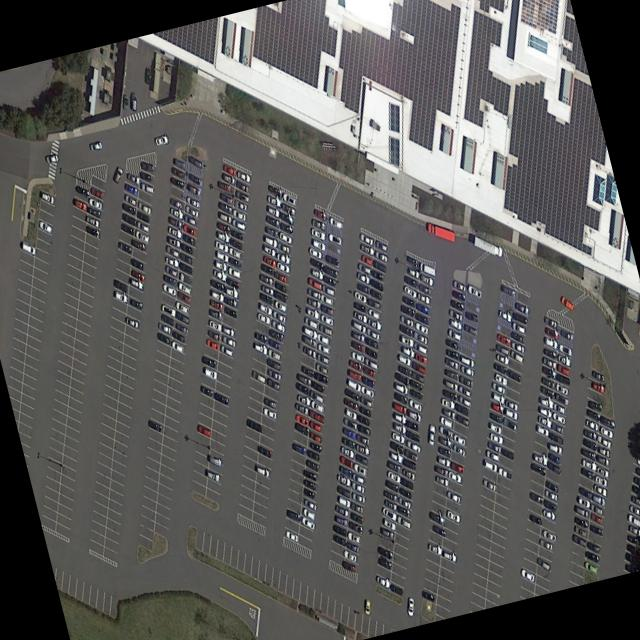large-vehicle: (474, 235, 502, 256), (427, 221, 454, 241)
small-vehicle: (406, 438, 421, 453), (382, 505, 397, 520), (377, 544, 392, 559), (246, 417, 261, 432), (420, 260, 435, 275), (308, 408, 324, 422), (560, 294, 574, 310), (389, 439, 403, 454), (302, 332, 316, 347), (407, 407, 421, 422), (392, 400, 407, 414), (394, 370, 408, 385), (413, 329, 427, 344), (396, 513, 410, 528), (596, 433, 611, 447), (599, 414, 614, 428), (530, 461, 545, 475), (546, 459, 560, 474), (548, 430, 563, 444), (186, 181, 200, 196), (217, 200, 232, 214), (167, 214, 182, 228), (161, 302, 176, 316), (351, 318, 366, 332), (307, 276, 322, 290), (294, 420, 308, 434), (295, 412, 309, 426), (491, 380, 505, 394), (405, 428, 419, 442), (408, 397, 422, 411), (413, 340, 427, 354), (429, 510, 443, 524), (251, 369, 265, 383), (483, 457, 497, 471), (343, 548, 357, 562), (377, 555, 391, 569), (515, 300, 529, 314), (419, 271, 433, 285), (510, 329, 524, 343), (188, 154, 202, 168), (267, 182, 281, 196), (282, 191, 296, 205), (131, 237, 145, 251), (135, 228, 149, 242), (122, 201, 136, 215), (372, 258, 386, 272), (269, 327, 283, 341), (201, 354, 215, 368), (175, 310, 189, 324), (177, 289, 191, 303), (271, 318, 285, 332), (311, 226, 325, 240), (279, 210, 293, 224), (296, 372, 311, 385), (442, 377, 457, 390), (459, 353, 474, 366), (521, 566, 534, 581), (537, 555, 550, 570), (580, 446, 595, 459), (582, 437, 597, 450), (532, 452, 547, 465), (500, 283, 515, 296), (343, 416, 357, 429), (344, 396, 357, 410), (344, 387, 358, 400), (387, 458, 400, 472), (402, 457, 416, 470), (341, 444, 354, 458), (353, 461, 366, 475), (340, 453, 353, 467), (309, 389, 323, 402), (301, 363, 314, 377), (404, 447, 417, 461), (506, 368, 520, 381), (455, 401, 468, 415), (444, 356, 458, 369), (463, 322, 477, 335), (503, 416, 516, 430), (404, 417, 418, 430), (394, 389, 407, 403), (394, 380, 407, 394), (411, 360, 425, 373), (415, 320, 428, 334), (267, 356, 280, 370), (266, 376, 279, 390), (447, 508, 460, 522), (383, 488, 397, 501), (384, 478, 398, 491), (432, 523, 446, 536), (446, 489, 460, 502), (498, 465, 511, 479), (286, 508, 300, 521), (301, 515, 314, 529), (348, 519, 362, 532), (539, 536, 552, 550), (214, 391, 228, 404), (255, 463, 269, 476), (257, 443, 271, 456), (543, 497, 556, 511), (572, 533, 586, 546), (590, 511, 603, 525), (590, 501, 603, 515), (579, 485, 592, 499), (582, 457, 596, 470), (542, 364, 555, 378), (600, 424, 613, 438), (22, 240, 35, 254), (538, 413, 551, 427), (359, 231, 373, 244), (403, 284, 417, 297), (467, 284, 481, 297), (510, 339, 524, 352), (512, 310, 526, 323), (219, 191, 233, 204), (235, 189, 249, 202), (85, 224, 99, 237), (137, 200, 151, 213), (209, 297, 223, 310), (210, 278, 224, 291), (510, 348, 523, 362), (113, 277, 126, 291), (131, 267, 144, 281), (171, 329, 185, 342), (175, 299, 188, 313), (162, 282, 176, 295), (162, 272, 176, 285), (165, 254, 179, 267), (165, 243, 178, 257), (178, 280, 191, 294), (258, 300, 271, 314), (323, 264, 337, 277), (353, 309, 367, 322), (367, 316, 381, 329), (369, 277, 383, 290), (272, 308, 285, 322), (259, 290, 272, 304), (273, 288, 287, 301), (262, 242, 275, 256), (265, 213, 279, 226), (142, 65, 151, 85), (628, 512, 640, 527), (538, 395, 553, 407), (113, 164, 122, 183), (356, 442, 369, 455), (343, 425, 356, 438), (359, 394, 372, 407), (361, 384, 374, 397), (348, 368, 361, 381), (349, 358, 362, 371), (364, 356, 377, 369), (351, 339, 364, 352), (389, 449, 402, 462), (292, 441, 305, 454), (303, 467, 316, 480), (305, 458, 318, 471), (295, 401, 308, 414), (311, 399, 324, 412), (311, 379, 324, 392), (314, 370, 327, 383), (337, 473, 350, 486), (458, 383, 471, 396), (459, 374, 472, 387), (460, 363, 473, 376), (393, 420, 406, 433), (449, 307, 462, 320), (490, 431, 503, 444), (504, 406, 517, 419), (392, 410, 405, 423), (409, 377, 422, 390), (411, 369, 424, 382), (439, 424, 452, 437), (396, 503, 409, 516), (435, 463, 448, 476), (450, 460, 463, 473), (334, 513, 347, 526), (335, 503, 348, 516), (350, 510, 363, 523), (336, 484, 349, 497), (376, 574, 389, 587), (148, 419, 161, 432), (529, 490, 542, 503), (545, 479, 558, 492), (584, 560, 597, 573), (574, 515, 587, 528), (592, 492, 605, 505), (493, 361, 506, 374), (540, 384, 553, 397), (555, 392, 568, 405), (542, 375, 555, 388), (544, 335, 557, 348), (586, 407, 599, 420), (374, 248, 387, 261), (400, 313, 413, 326), (401, 303, 414, 316), (415, 311, 428, 324), (416, 301, 429, 314), (417, 291, 430, 304), (404, 273, 417, 286), (512, 320, 525, 333), (495, 342, 508, 355), (232, 217, 245, 230), (232, 207, 245, 220), (86, 214, 99, 227), (89, 196, 102, 209), (118, 240, 131, 253), (122, 212, 135, 225), (124, 192, 137, 205), (213, 267, 226, 280), (220, 343, 233, 356), (222, 334, 235, 347), (224, 304, 237, 317), (215, 239, 228, 252), (179, 250, 192, 263), (179, 260, 192, 273), (125, 314, 138, 327), (130, 276, 143, 289), (130, 256, 143, 269), (156, 330, 169, 343), (158, 320, 171, 333), (161, 312, 174, 325), (175, 321, 188, 334), (179, 271, 192, 284), (257, 311, 270, 324), (320, 292, 333, 305), (322, 283, 335, 296), (310, 256, 323, 269), (329, 215, 342, 228), (351, 329, 364, 342), (366, 326, 379, 339), (278, 230, 291, 243), (304, 325, 317, 338), (304, 315, 317, 328), (319, 322, 332, 335), (320, 312, 333, 325), (495, 371, 507, 385), (440, 414, 452, 428), (398, 352, 410, 366), (332, 523, 346, 535), (351, 490, 365, 502), (379, 526, 393, 538), (626, 543, 640, 555), (548, 441, 562, 453), (594, 482, 606, 496), (556, 372, 570, 384), (544, 326, 558, 338), (450, 298, 464, 310), (452, 278, 466, 290), (72, 197, 86, 209), (124, 182, 138, 194), (499, 308, 511, 322), (171, 339, 183, 353), (311, 266, 323, 280), (279, 221, 293, 233), (305, 306, 319, 318), (428, 422, 435, 445), (348, 378, 360, 391), (356, 432, 369, 444), (357, 422, 370, 434), (358, 404, 370, 417), (361, 374, 374, 386), (363, 364, 375, 377), (351, 349, 364, 361), (364, 345, 376, 358), (306, 448, 319, 460), (309, 440, 322, 452), (296, 381, 308, 394), (315, 361, 327, 374), (303, 344, 315, 357), (448, 327, 460, 340), (456, 412, 468, 425), (458, 393, 470, 406), (444, 367, 457, 379), (492, 390, 504, 403), (441, 406, 454, 418), (453, 432, 465, 445), (415, 351, 427, 364), (401, 345, 414, 357), (400, 333, 413, 345), (399, 323, 412, 335), (438, 435, 451, 447), (452, 443, 465, 455), (398, 495, 410, 508), (400, 475, 412, 488), (428, 542, 441, 554), (443, 549, 456, 561), (448, 469, 461, 481), (483, 477, 495, 490), (487, 440, 500, 452), (304, 497, 316, 510), (342, 559, 355, 571), (333, 533, 346, 545), (351, 480, 364, 492), (383, 517, 395, 530), (543, 528, 555, 541), (583, 427, 596, 439), (586, 417, 598, 430), (207, 468, 219, 481), (197, 423, 210, 435), (200, 384, 213, 396), (263, 406, 276, 418), (596, 453, 609, 465), (545, 487, 557, 500), (547, 451, 560, 463), (585, 549, 598, 561), (574, 524, 586, 537), (589, 523, 602, 535), (575, 505, 588, 517), (578, 495, 590, 508), (595, 473, 607, 486), (553, 410, 565, 423), (553, 401, 566, 413), (556, 382, 568, 395), (543, 356, 556, 368), (559, 342, 571, 355), (544, 315, 557, 327), (560, 328, 573, 340), (591, 380, 604, 392), (39, 219, 51, 232), (538, 405, 551, 417), (375, 238, 387, 251), (418, 282, 431, 294), (452, 288, 465, 300), (188, 171, 200, 184), (216, 220, 229, 232), (217, 179, 230, 191), (233, 198, 246, 210), (237, 169, 250, 181), (282, 202, 295, 214), (625, 551, 637, 564), (185, 204, 198, 216), (170, 206, 183, 218), (87, 205, 100, 217), (136, 219, 149, 231), (168, 225, 181, 237), (182, 232, 195, 244), (182, 223, 195, 235), (360, 242, 373, 254), (206, 337, 219, 349), (208, 328, 221, 340), (211, 289, 224, 301), (226, 276, 239, 288), (371, 268, 383, 281), (228, 255, 241, 267), (254, 342, 267, 354), (497, 332, 509, 345), (114, 289, 127, 301), (323, 273, 335, 286), (309, 246, 322, 258), (325, 253, 338, 265), (357, 281, 370, 293), (357, 270, 369, 283), (358, 261, 370, 274), (307, 286, 320, 298), (259, 272, 272, 284), (261, 261, 273, 274), (264, 234, 277, 246), (264, 224, 277, 236), (285, 529, 298, 541), (442, 388, 456, 399), (588, 399, 602, 410), (208, 307, 222, 318), (355, 452, 367, 464), (342, 436, 354, 448), (345, 407, 357, 419), (357, 413, 369, 425), (392, 431, 404, 443), (352, 471, 364, 483), (268, 347, 280, 359), (303, 477, 315, 489), (309, 430, 321, 442), (309, 419, 321, 431), (298, 393, 310, 405), (339, 464, 351, 476), (446, 347, 458, 359), (465, 309, 477, 321), (505, 398, 517, 410), (410, 387, 422, 399), (398, 363, 410, 375), (268, 367, 280, 379), (388, 470, 400, 482), (402, 467, 414, 479), (422, 589, 434, 601), (486, 448, 498, 460), (501, 446, 513, 458), (384, 498, 396, 510), (346, 540, 358, 552), (350, 500, 362, 512), (390, 582, 402, 594), (529, 512, 541, 524), (597, 444, 609, 456), (209, 454, 221, 466), (204, 366, 216, 378), (264, 396, 276, 408), (543, 507, 555, 519), (587, 540, 599, 552), (581, 466, 593, 478), (558, 353, 570, 365), (551, 421, 563, 433), (402, 294, 414, 306), (407, 266, 419, 278), (406, 254, 418, 266), (186, 195, 198, 207), (173, 156, 185, 168), (76, 184, 88, 196), (236, 179, 248, 191), (223, 163, 235, 175), (268, 194, 280, 206), (184, 213, 196, 225), (91, 186, 103, 198), (121, 222, 133, 234), (137, 210, 149, 222), (127, 171, 139, 183), (209, 318, 221, 330), (224, 295, 236, 307), (228, 265, 240, 277), (217, 230, 229, 242), (230, 227, 242, 239), (254, 330, 266, 342), (268, 337, 280, 349), (180, 241, 192, 253), (130, 297, 142, 309), (329, 232, 341, 244), (353, 300, 365, 312), (354, 290, 366, 302), (261, 283, 273, 295), (274, 280, 286, 292), (274, 270, 286, 282), (263, 254, 275, 266), (277, 260, 289, 272), (277, 251, 289, 263), (277, 240, 289, 252), (365, 336, 378, 347), (441, 397, 454, 408), (399, 485, 410, 498), (303, 506, 314, 519), (347, 530, 360, 541), (556, 363, 569, 374), (543, 347, 556, 358), (41, 191, 54, 202), (170, 175, 183, 186), (222, 172, 235, 183), (140, 181, 153, 192), (229, 245, 240, 258), (230, 236, 241, 249), (312, 238, 325, 249), (311, 218, 324, 229), (320, 303, 333, 314), (131, 91, 138, 111), (445, 337, 457, 348), (450, 317, 461, 329), (489, 421, 501, 432), (491, 400, 502, 412), (438, 445, 450, 456), (438, 454, 449, 466), (338, 495, 350, 506), (629, 523, 640, 535), (597, 465, 609, 476), (497, 352, 508, 364), (592, 369, 604, 380), (536, 424, 548, 435), (171, 165, 182, 177), (219, 211, 231, 222), (267, 205, 279, 216), (170, 197, 182, 208), (361, 253, 372, 265), (226, 286, 238, 297), (216, 250, 228, 261), (165, 264, 177, 275), (314, 208, 326, 219), (367, 297, 379, 308), (275, 299, 286, 311), (317, 342, 329, 353), (627, 534, 640, 544), (45, 152, 58, 162), (155, 134, 168, 144), (89, 140, 102, 150), (307, 297, 320, 307), (122, 92, 129, 110), (317, 352, 328, 363), (490, 411, 501, 422), (436, 474, 447, 485), (303, 486, 314, 497), (629, 504, 640, 515), (223, 325, 234, 336), (215, 259, 226, 270), (368, 307, 379, 318), (370, 287, 381, 298), (317, 332, 328, 343), (407, 596, 413, 616), (139, 170, 151, 180), (141, 161, 153, 170), (168, 237, 180, 246), (364, 597, 370, 614), (631, 483, 640, 494), (631, 494, 640, 504), (634, 475, 640, 485), (636, 466, 640, 474), (637, 455, 640, 464)
